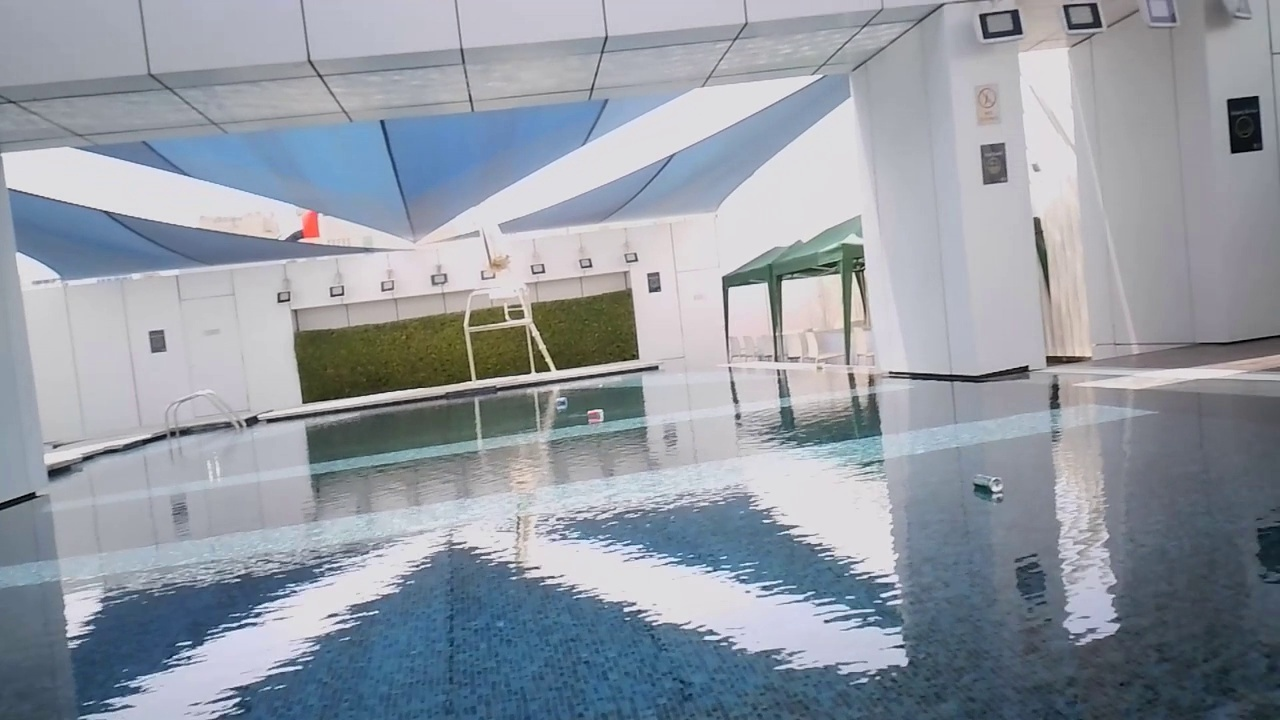debris: (964, 471, 1006, 499), (582, 404, 606, 427), (549, 394, 570, 413), (811, 361, 829, 374)
